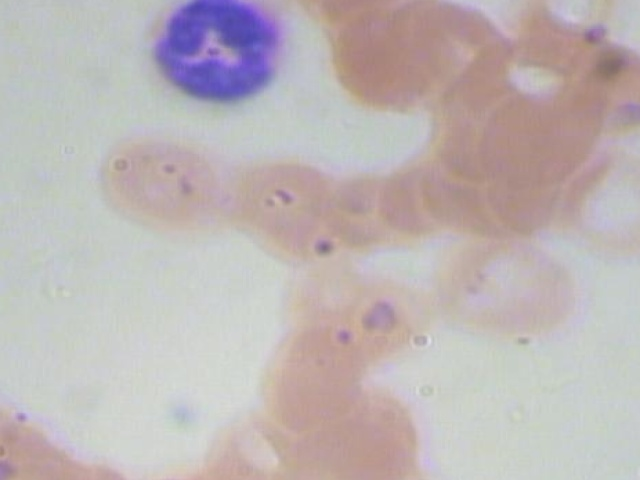RBC: (280, 257, 433, 369), (311, 5, 464, 117), (426, 227, 578, 339), (238, 314, 390, 426), (87, 128, 240, 239), (209, 147, 361, 258), (466, 76, 618, 187), (287, 389, 440, 480), (553, 145, 640, 256)
WBC: (122, 0, 306, 104)
